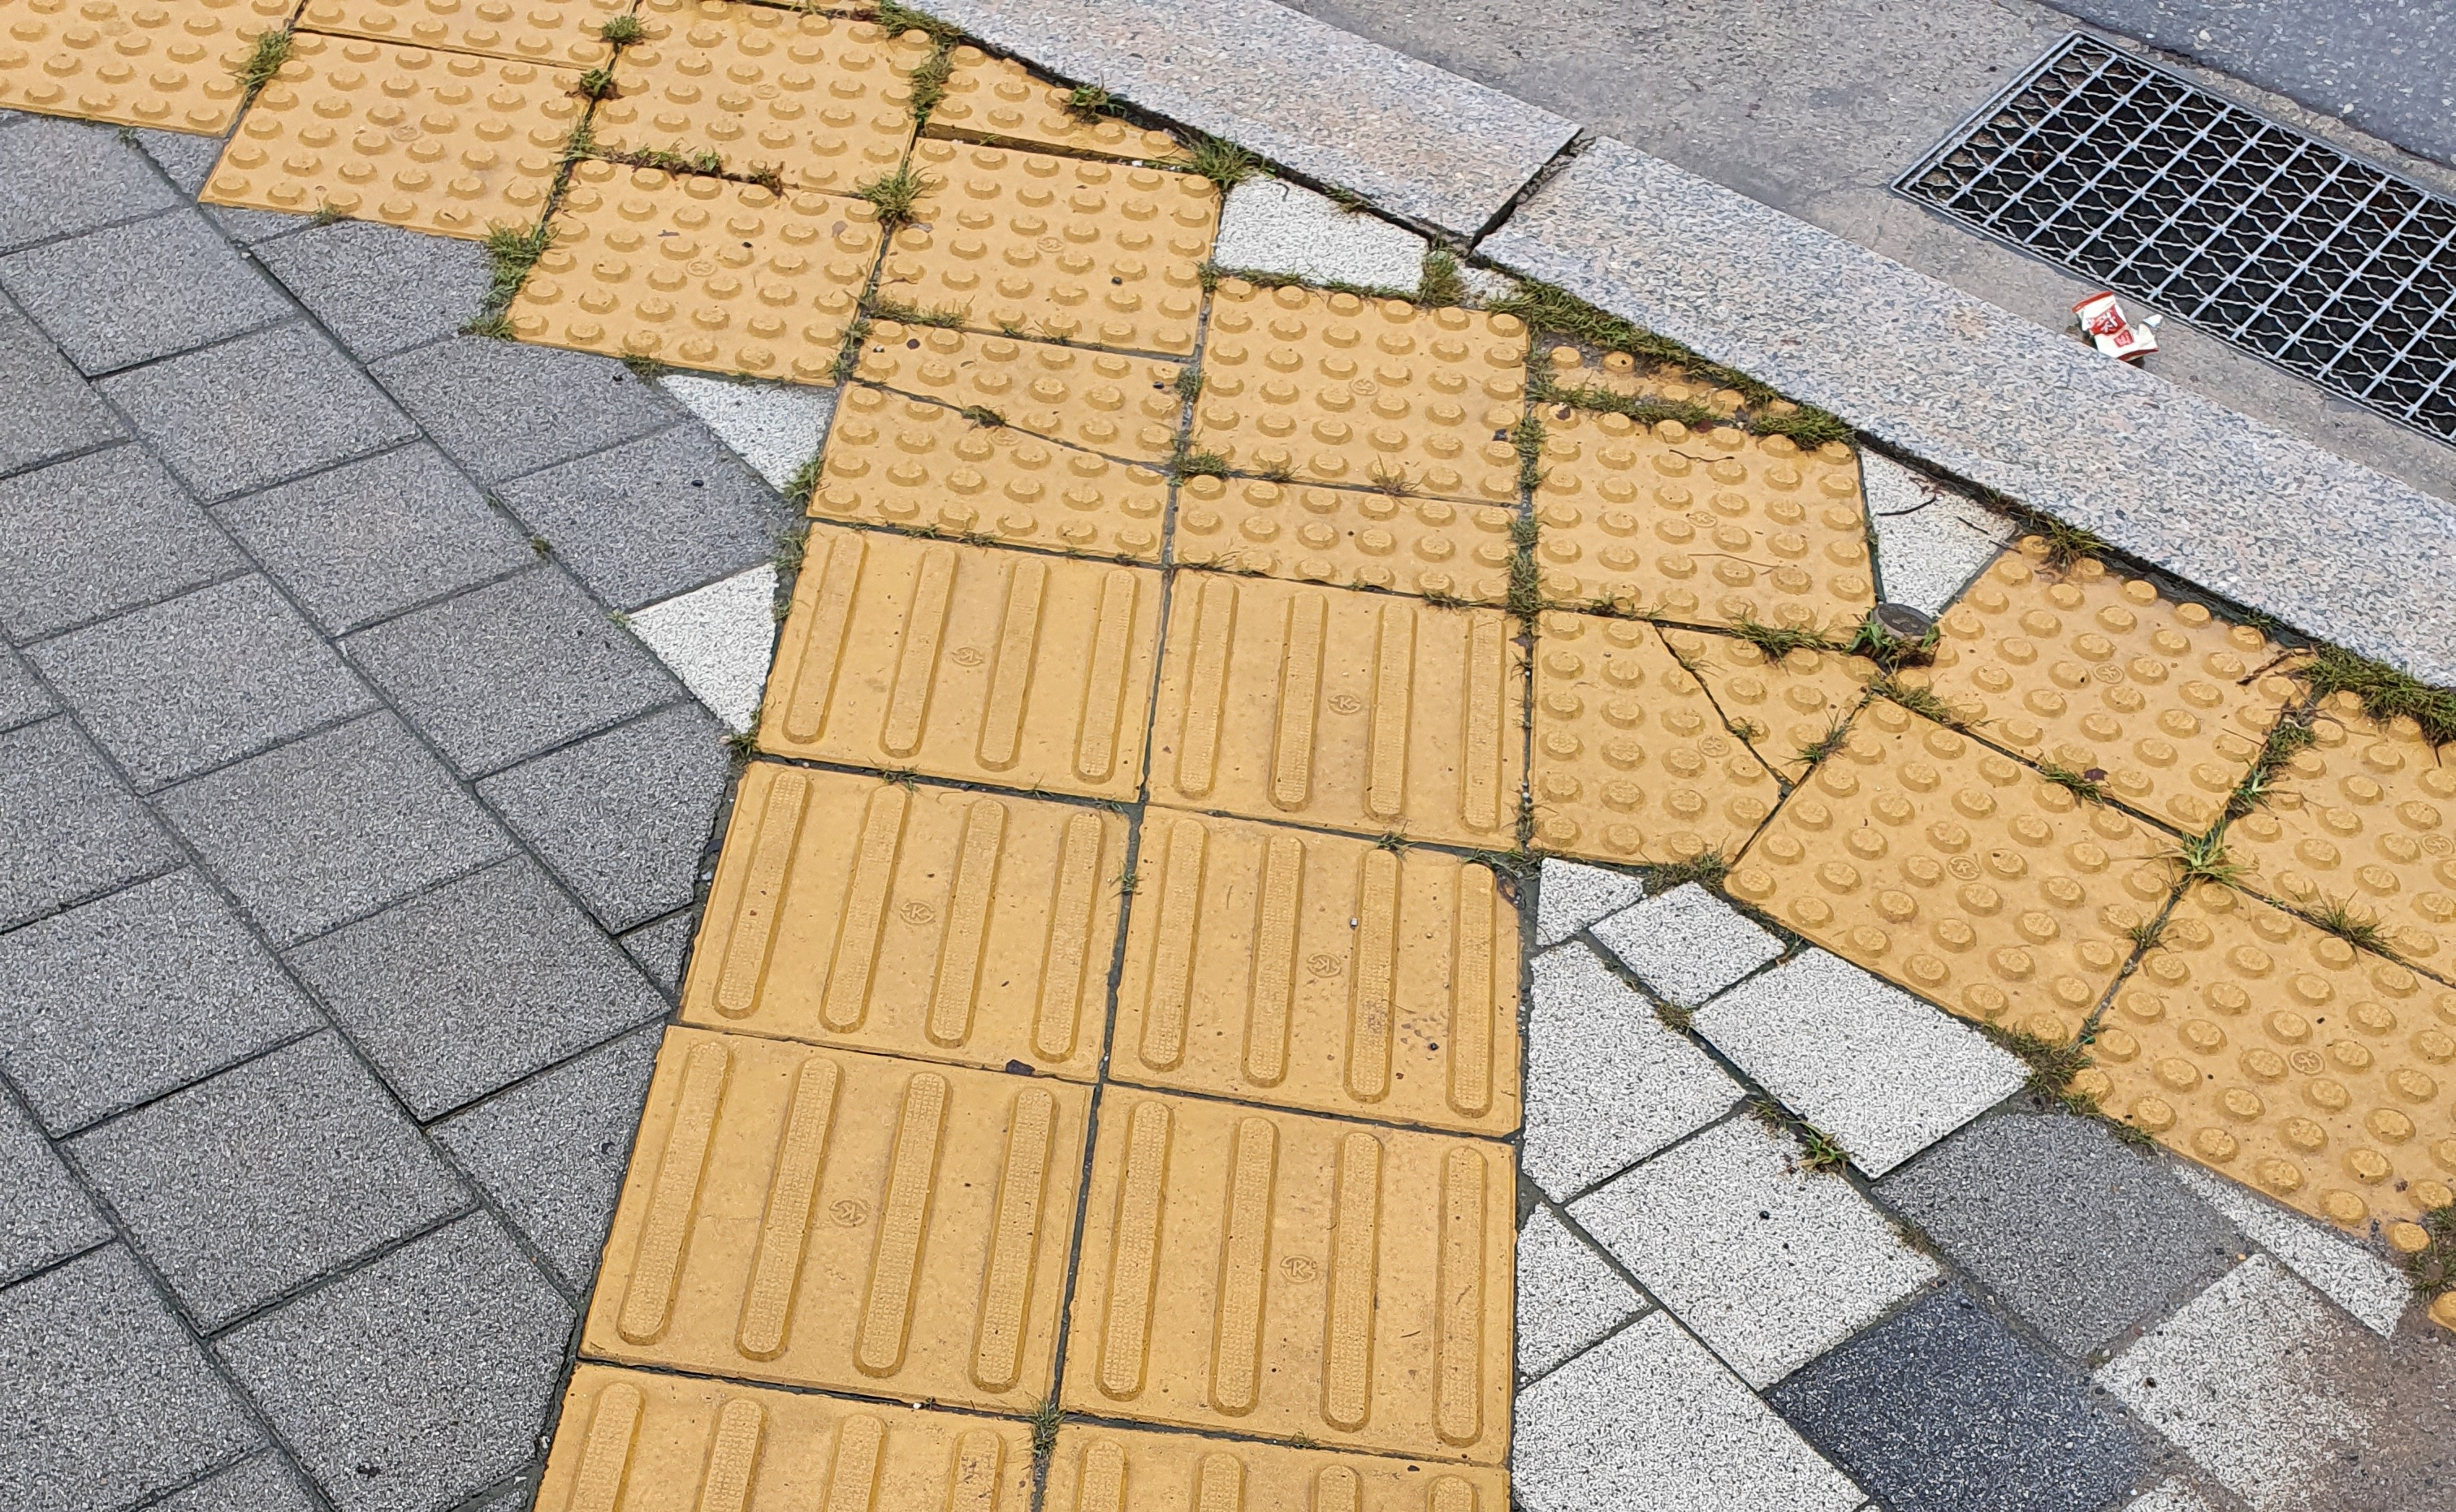guideBlock: (1063, 1086, 1528, 1449), (635, 1045, 1054, 1391), (1140, 537, 1561, 861), (1135, 802, 1517, 1126), (732, 768, 1086, 1051), (826, 540, 1103, 742)
warningBlock: (1772, 681, 2105, 968), (1196, 247, 1546, 510), (1526, 384, 1868, 640), (2153, 907, 2456, 1186), (837, 339, 1184, 551), (1556, 616, 1830, 861), (1982, 531, 2251, 774), (546, 174, 842, 372), (919, 135, 1193, 342), (618, 11, 910, 184), (256, 49, 539, 223)
